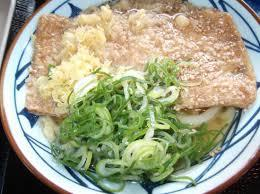kitune: (5, 2, 256, 190)
